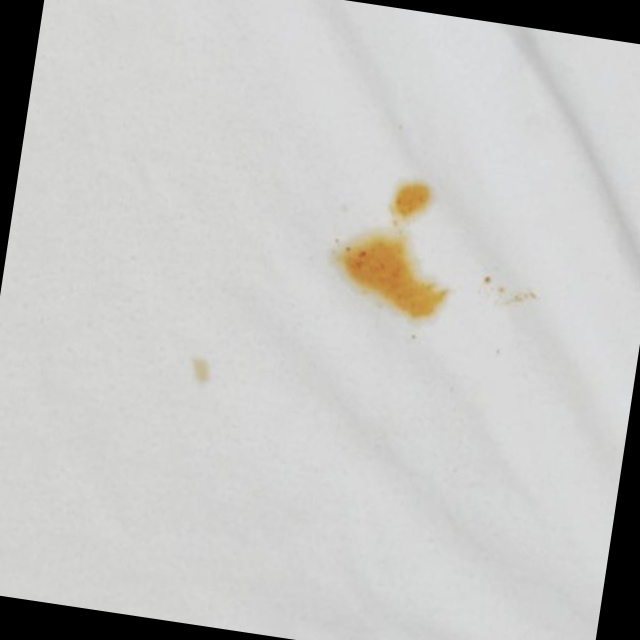kimchi: (312, 151, 477, 357), (469, 255, 553, 324), (177, 350, 222, 388), (487, 341, 509, 361)
